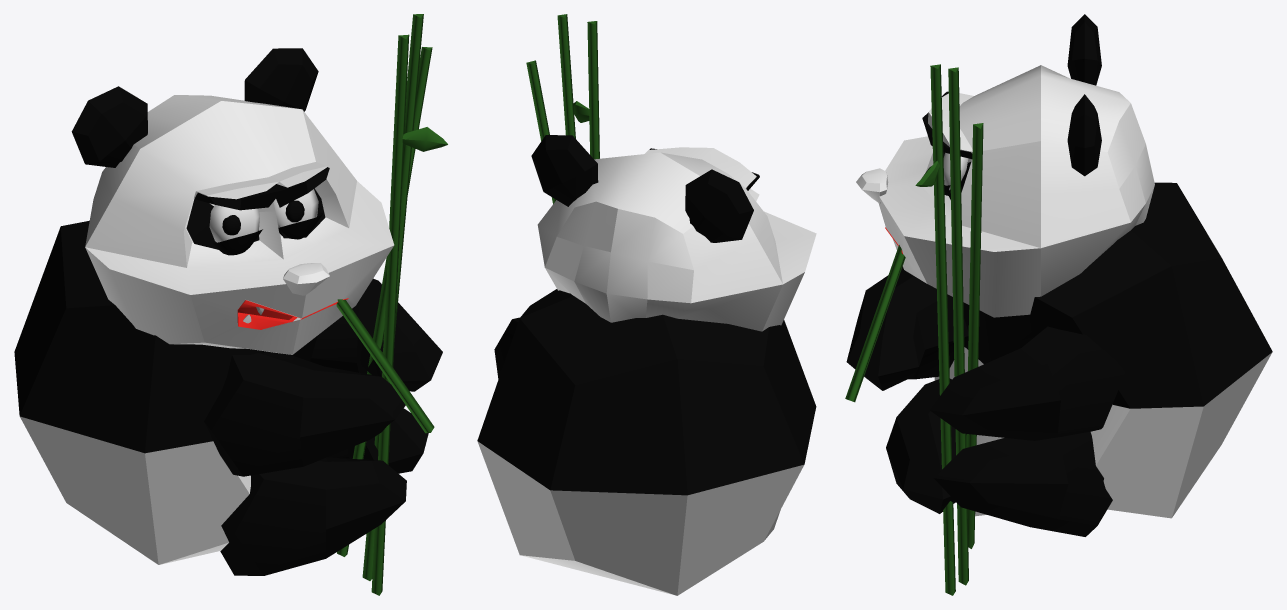
File: panda.glb
3 renders of one model, left to right at view 1: azimuth 30°, elevation 25°; view 2: azimuth 150°, elevation 25°; view 3: azimuth 270°, elevation 25°, orthographic. The views are drawn at different scales.
Visible parts, largest first — view 1: head, Cube 13, Cube 5, Cube 9, Cube 12, Cube 10, Cylinder 2, Cube 4, Cube 3, blackpareyes, Cylinder 3, Cube 11 (+8 smaller); view 2: Cube 13, head, Cube 5, Cube 4, Cube 3, Cylinder 2, Cylinder 3, Cylinder, Cube 10; view 3: head, Cube 13, Cube 10, Cube 5, Cube 11, Cube 9, Cube 12, Cylinder 2, Cylinder 3, Cylinder, Cube 3, Cube 4 (+2 smaller).
Boxes of the visible parts, x1,y1,x2,y2 form: head: [85, 95, 394, 354]; Cube 13: [14, 220, 317, 453]; Cube 5: [20, 416, 250, 564]; Cube 9: [204, 352, 405, 476]; Cube 12: [220, 457, 406, 575]; Cube 10: [310, 278, 442, 391]; Cylinder 2: [371, 34, 409, 595]; Cube 4: [71, 86, 147, 167]; Cube 3: [244, 48, 318, 111]; blackpareyes: [186, 167, 329, 249]; Cylinder 3: [362, 14, 423, 580]; Cube 11: [327, 408, 428, 473]; Cube 13: [477, 289, 816, 495]; head: [537, 147, 816, 331]; Cube 5: [477, 441, 803, 595]; Cube 4: [685, 169, 753, 242]; Cube 3: [531, 135, 598, 206]; Cylinder 2: [587, 21, 599, 159]; Cylinder 3: [557, 14, 575, 138]; Cylinder: [526, 60, 555, 203]; Cube 10: [494, 317, 519, 379]; head: [878, 65, 1154, 317]; Cube 13: [963, 182, 1272, 408]; Cube 10: [930, 326, 1125, 440]; Cube 5: [934, 347, 1272, 518]; Cube 11: [934, 431, 1112, 536]; Cube 9: [846, 266, 968, 390]; Cube 12: [886, 378, 966, 513]; Cylinder 2: [930, 64, 955, 595]; Cylinder 3: [948, 67, 968, 585]; Cylinder: [966, 123, 983, 548]; Cube 3: [1067, 94, 1101, 176]; Cube 4: [1067, 14, 1101, 85].
Size of the model in its own units: 3.73 by 5.58 by 3.97.
